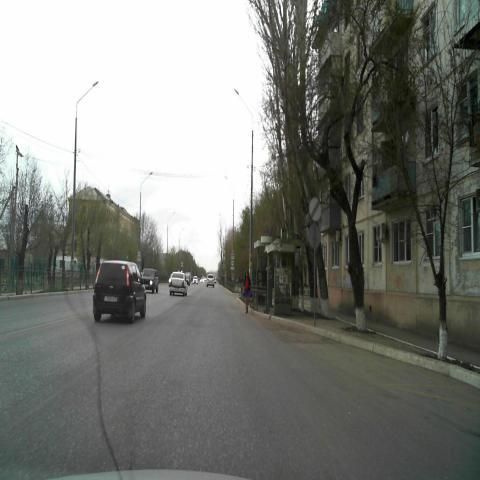3_31: (308, 196, 322, 223)
